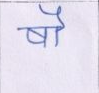au_matra: (45, 5, 67, 47)
